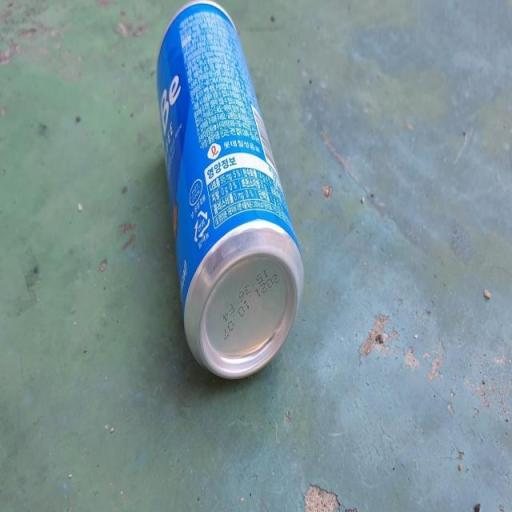metal: (151, 0, 314, 406)
